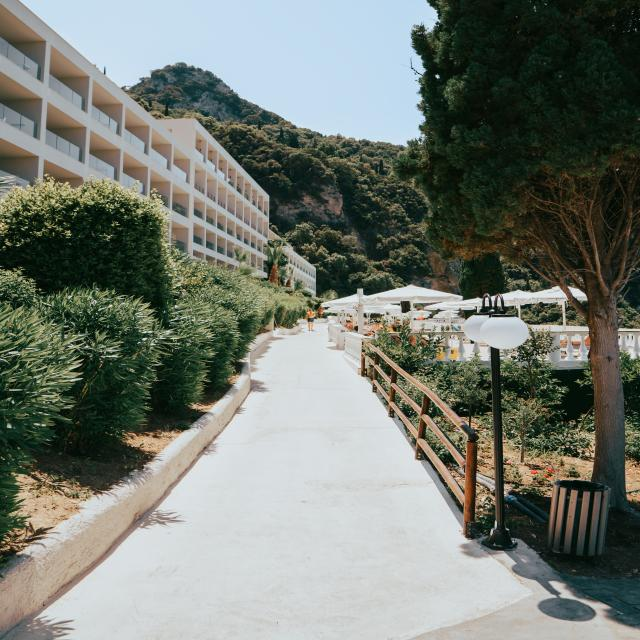Lamppost: (457, 293, 528, 543)
tree: (531, 24, 640, 531), (18, 188, 174, 441), (0, 271, 147, 499), (144, 180, 238, 426)
